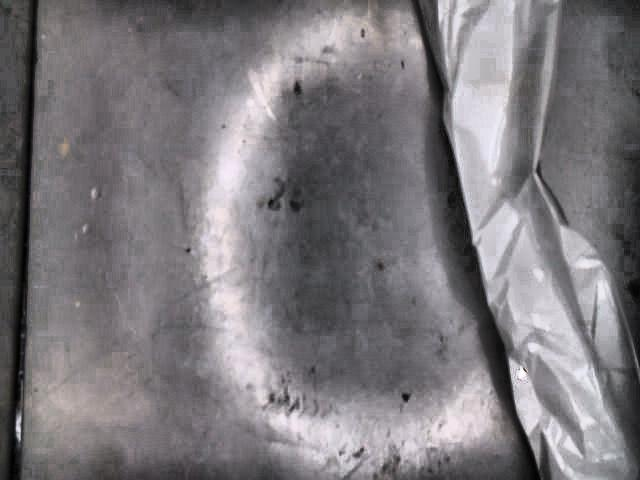Plastic: (414, 0, 640, 480)
